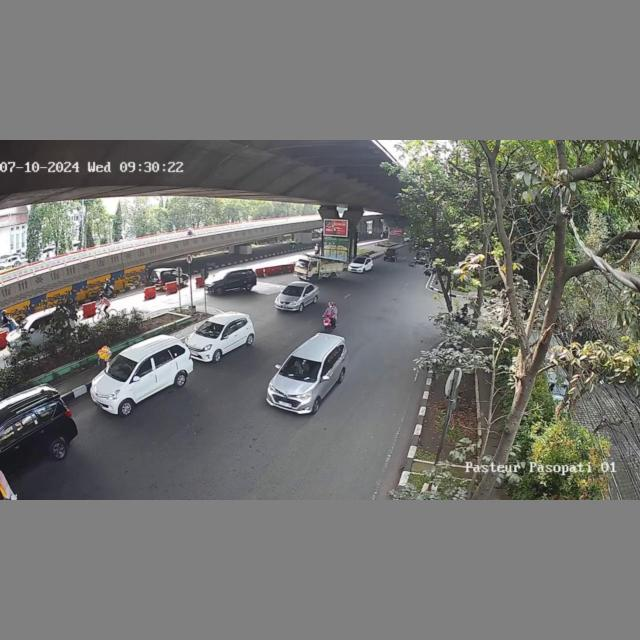windshield: (281, 353, 322, 381), (104, 356, 141, 379), (195, 321, 227, 337), (281, 286, 303, 296)
